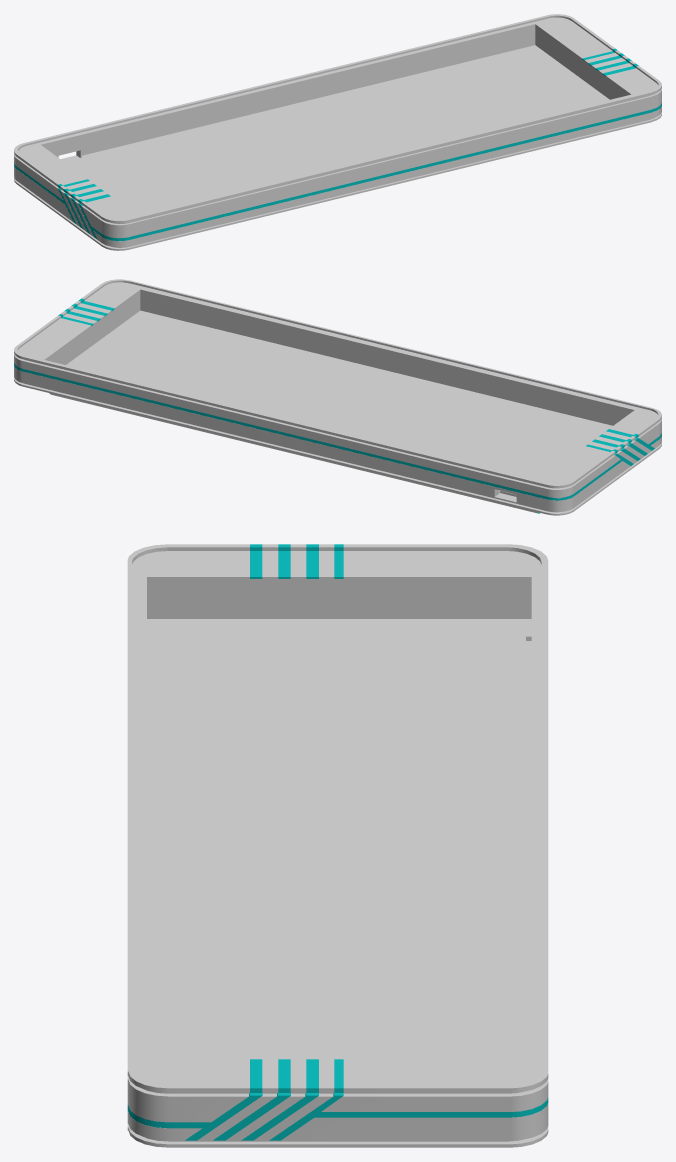
The model's file is casev2.fbx.
3 views of the same model, one above another, from view 1: azimuth 30°, elevation 25°; view 2: azimuth 150°, elevation 25°; view 3: azimuth 270°, elevation 25° (orthographic). The views are drawn at different scales.
Visible parts, largest first — view 1: case5, acrylic, topAcrylic; view 2: case5, acrylic, topAcrylic; view 3: case5, acrylic, topAcrylic.
Boxes of the visible parts, x1,y1,x2,y2 form: case5: (14, 14, 661, 250); acrylic: (14, 103, 661, 241); topAcrylic: (58, 48, 638, 203); case5: (14, 279, 661, 515); acrylic: (14, 363, 661, 500); topAcrylic: (58, 298, 638, 453); case5: (127, 544, 548, 1147); acrylic: (127, 1093, 548, 1140); topAcrylic: (250, 544, 343, 1092).
Size of the model in its own units: 39.74 by 2.66 by 12.99.
